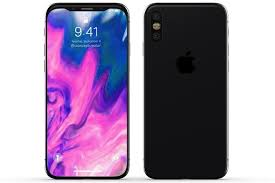iphone: (142, 3, 228, 182), (43, 1, 129, 179)
iphone10: (45, 2, 131, 181), (143, 1, 229, 180)
